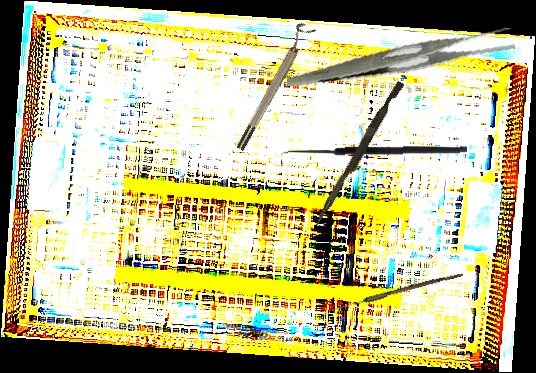Dressing Forceps: (286, 1, 518, 113)
Fixation Ring: (229, 20, 316, 153)
Hook Surgical: (280, 144, 468, 166)
Pusher: (313, 78, 405, 230)
Surgical Spoon: (328, 270, 464, 314)
